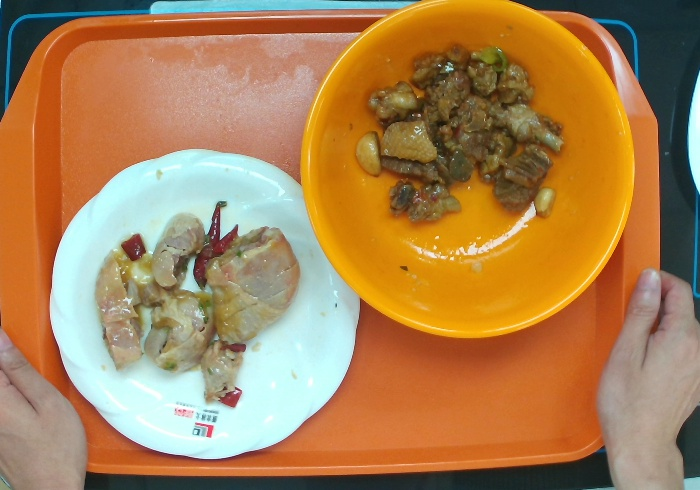ZNLD-Hua_Bian_Wan: (43, 140, 371, 471)
ZNLD-Ju_Se_Tang_Wan: (297, 1, 642, 344)
